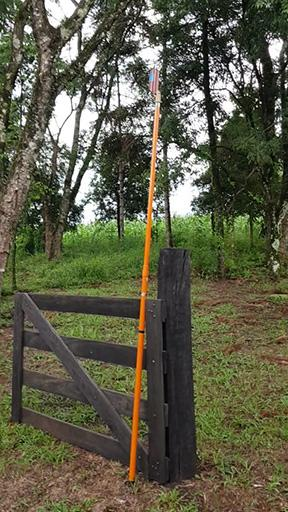Detector_Tensao_Contato: (148, 65, 159, 97)
Vara_Manobra: (128, 94, 161, 483)
